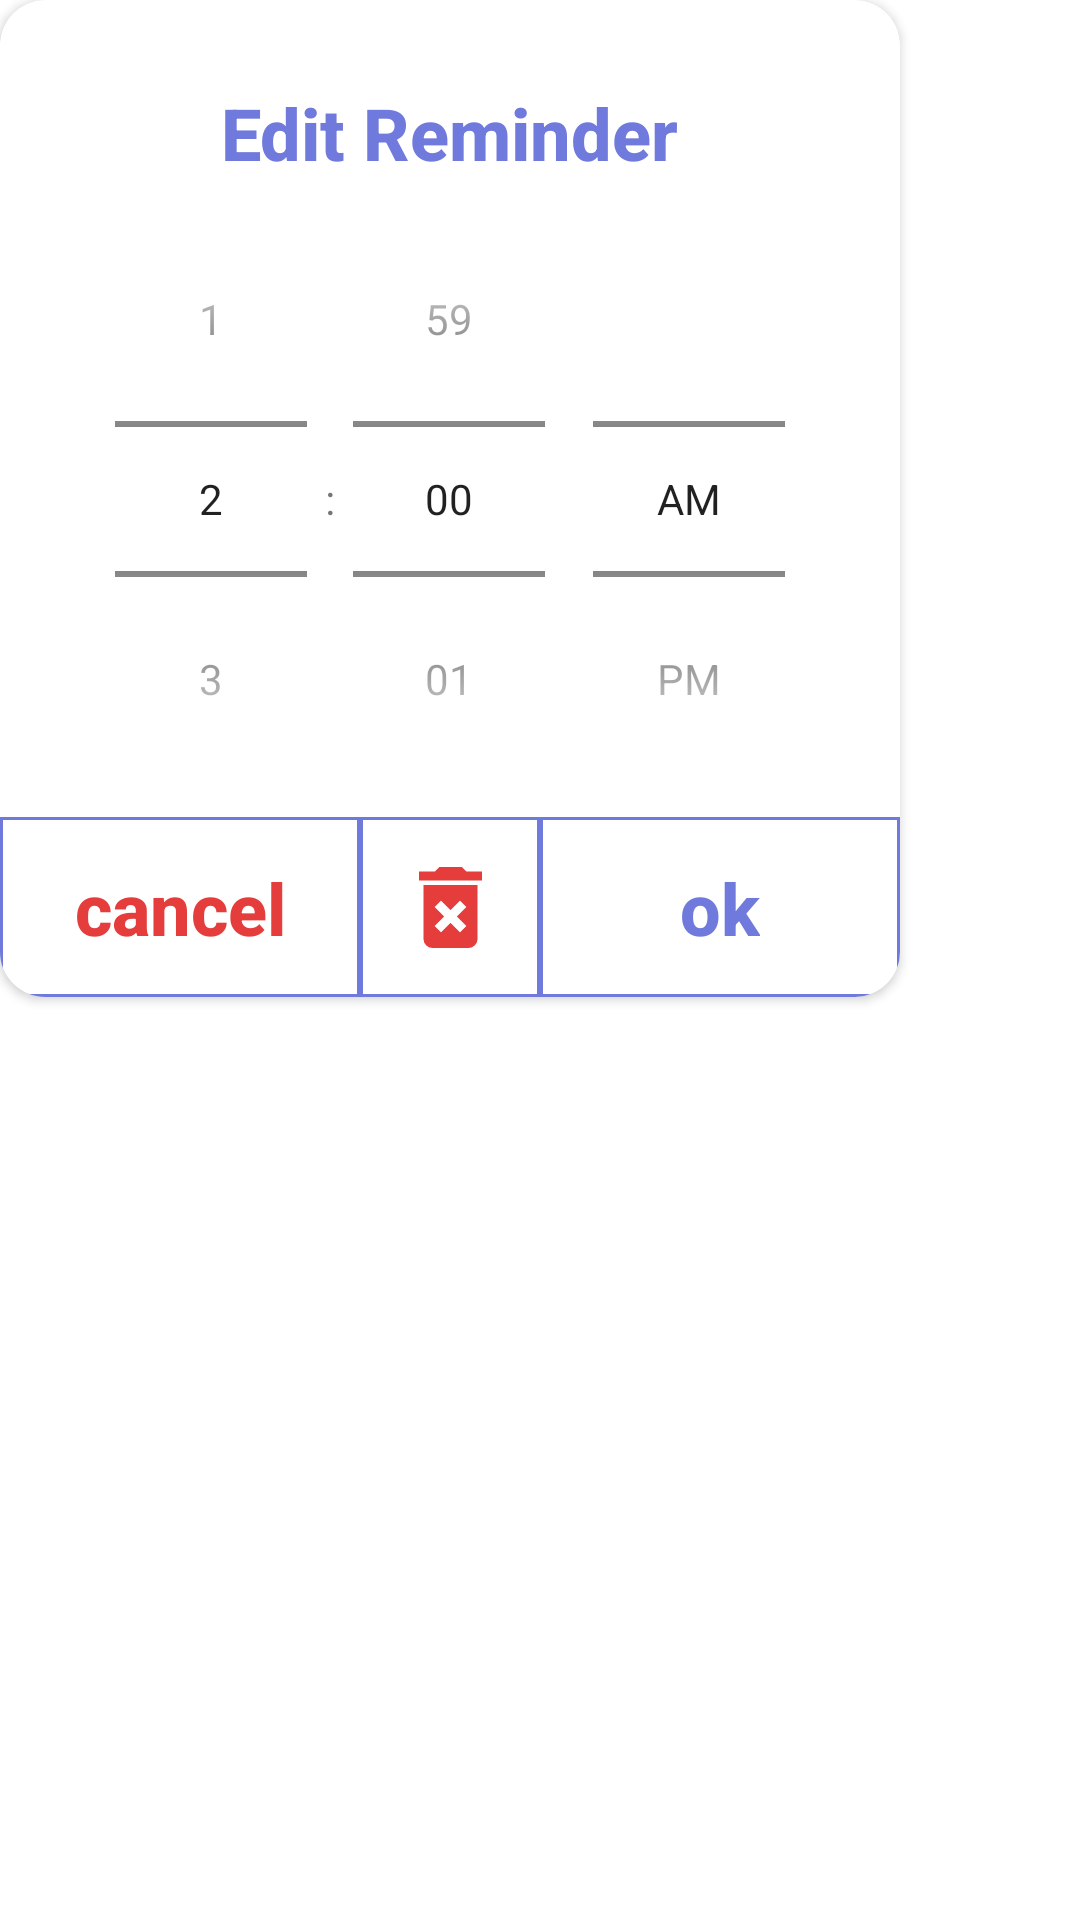

Screen size 1080px x 1920px. Icon name, then its box in pixels as detection(x1, y1, x2, y2):
delete forever: detection(419, 867, 482, 948)
